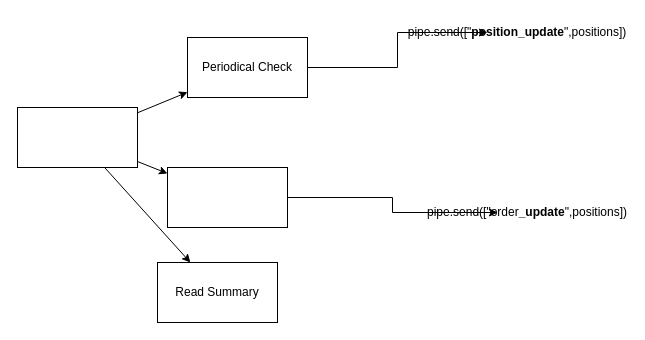
Image size: 645x340. Some labels were removed from this diagram. The centre of each missing label's shape, as x and y in pixels:
Order Stats Listener: the point at 227,197
PPRO IN MODULE: the point at 77,137
